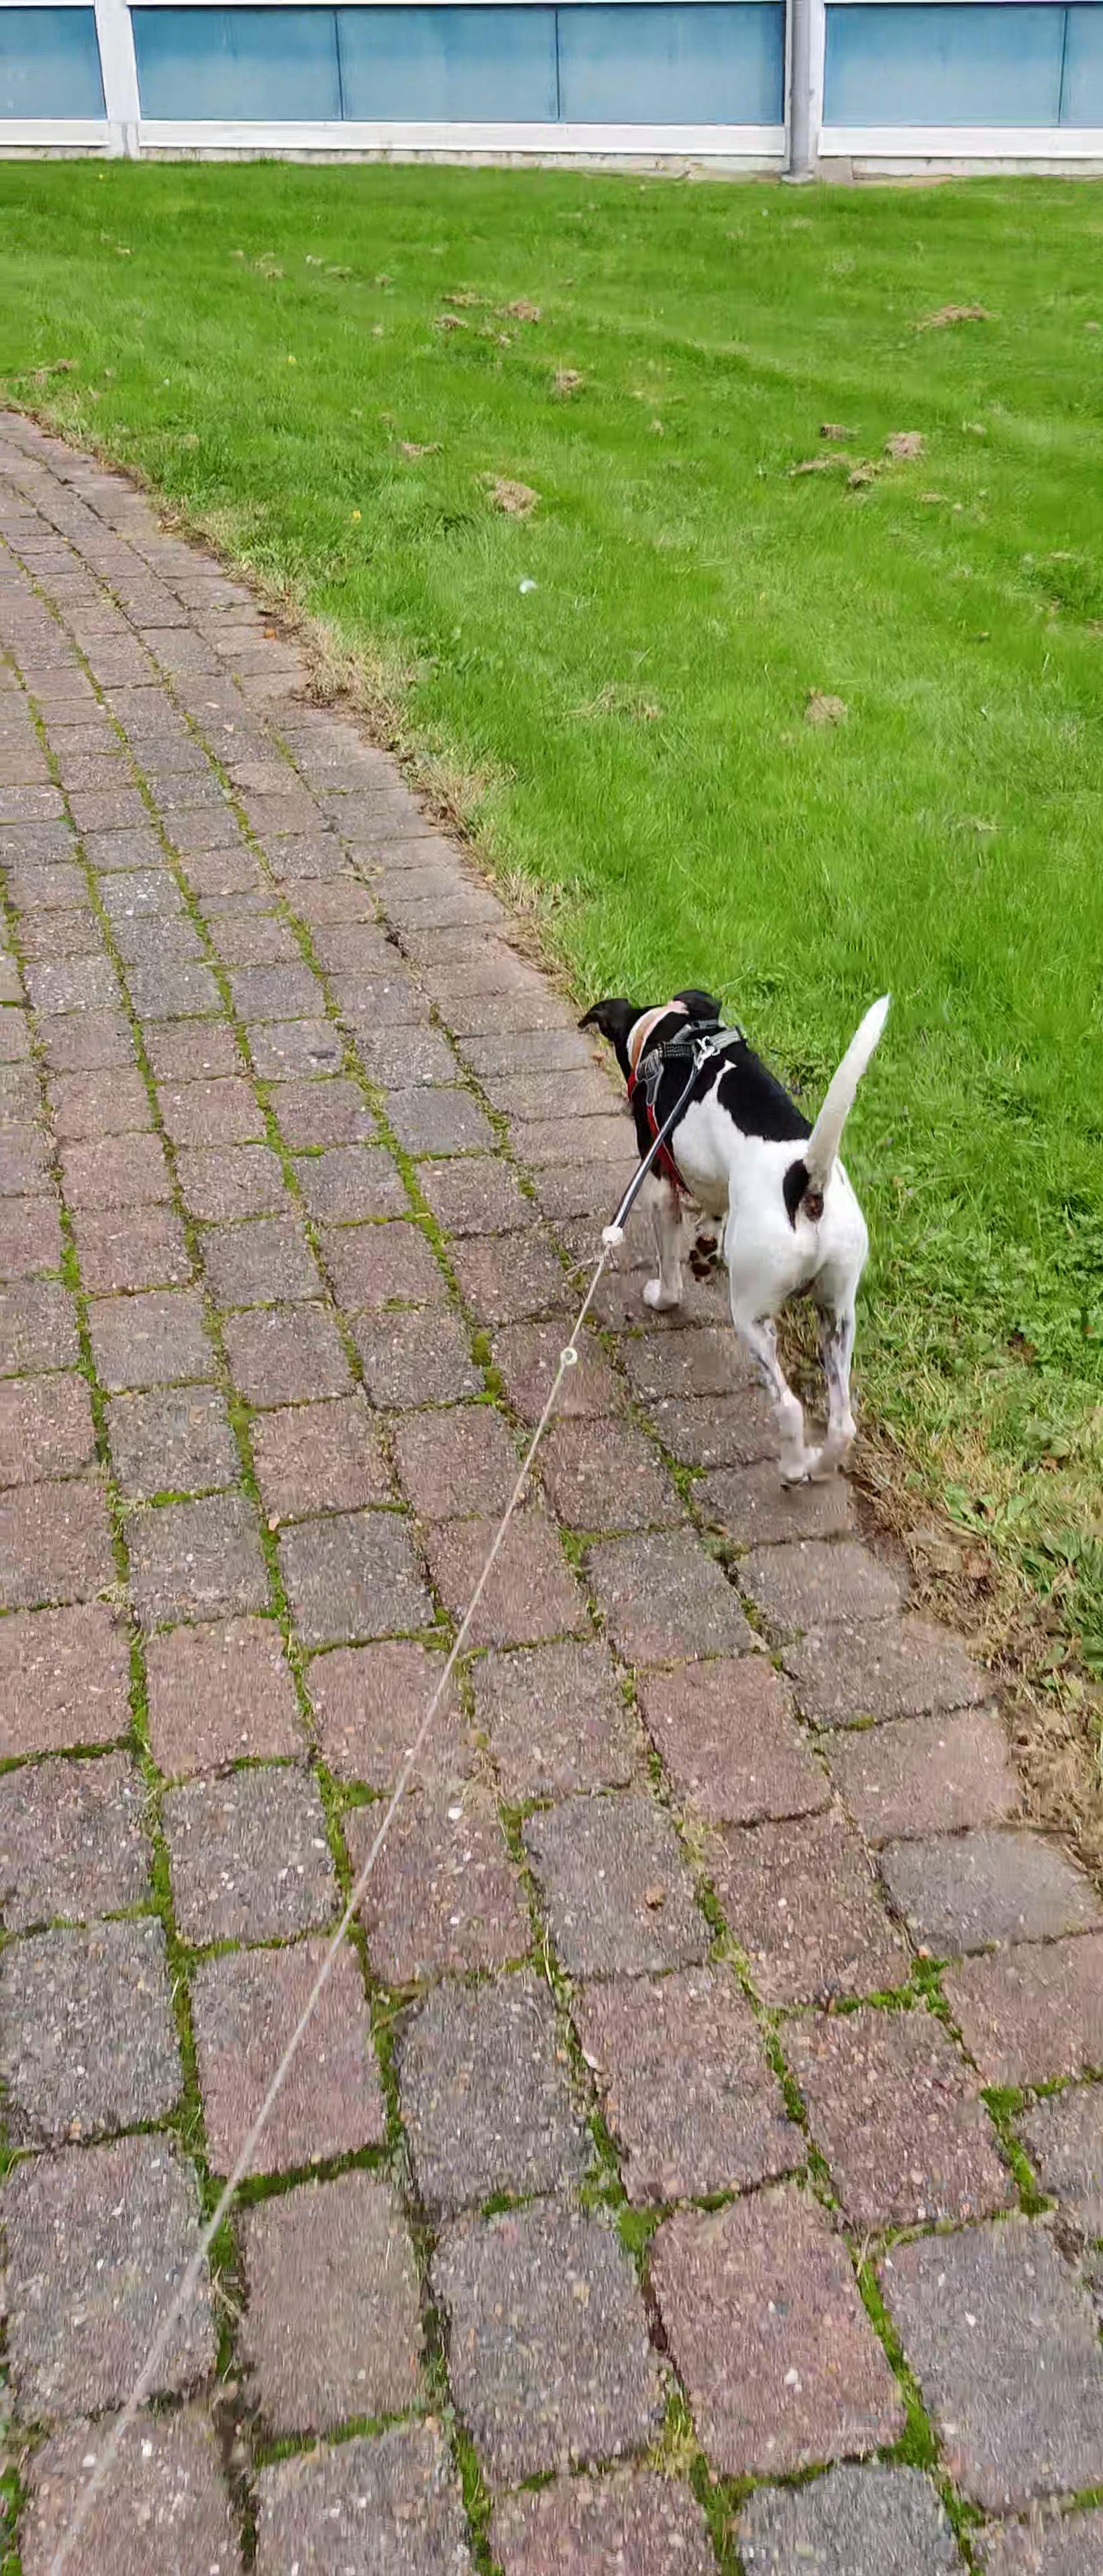Dog: (549, 950, 906, 1506)
